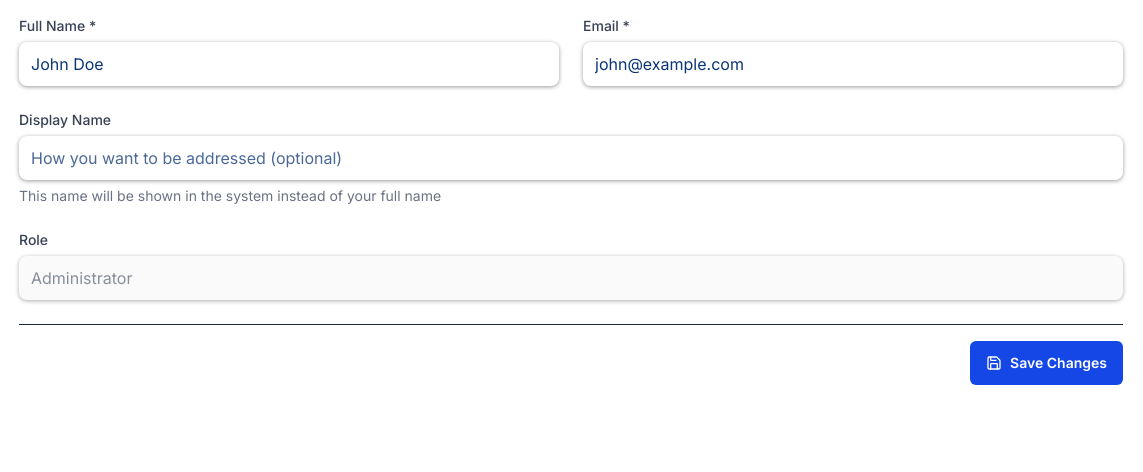
Test case: PersonalDataSettings › displays error message on update failure
Click the button "Save Changes" at (1047, 363), box [970,341,1123,385]
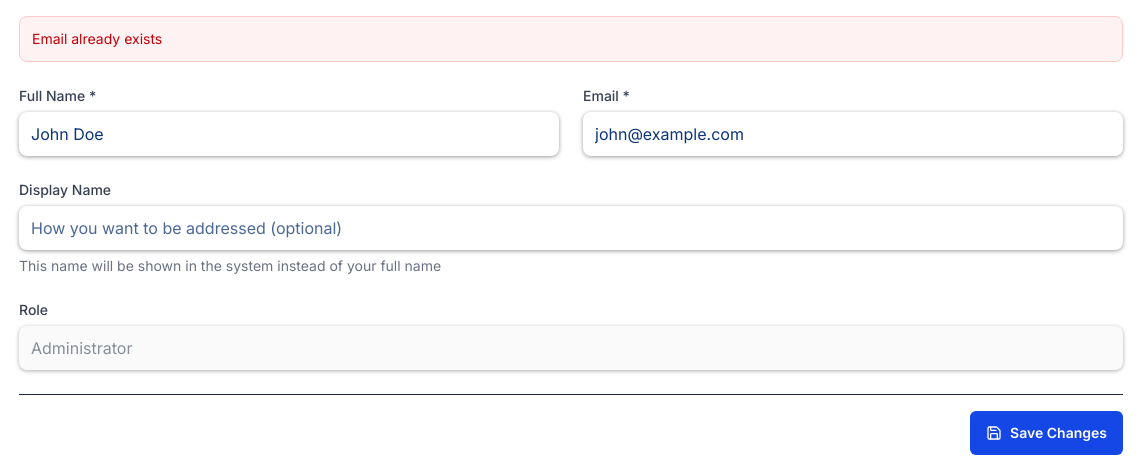
Expected: the text "Email already exists" is shown, [19,16,1123,62]
